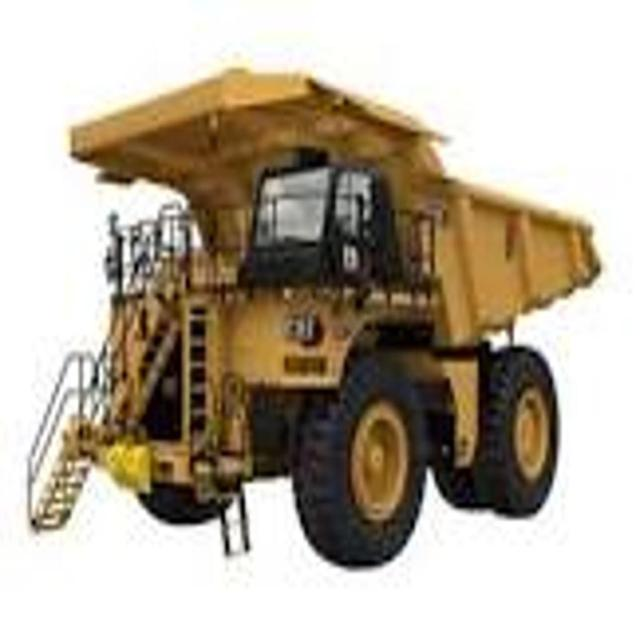dump_truck: (21, 50, 600, 578)
